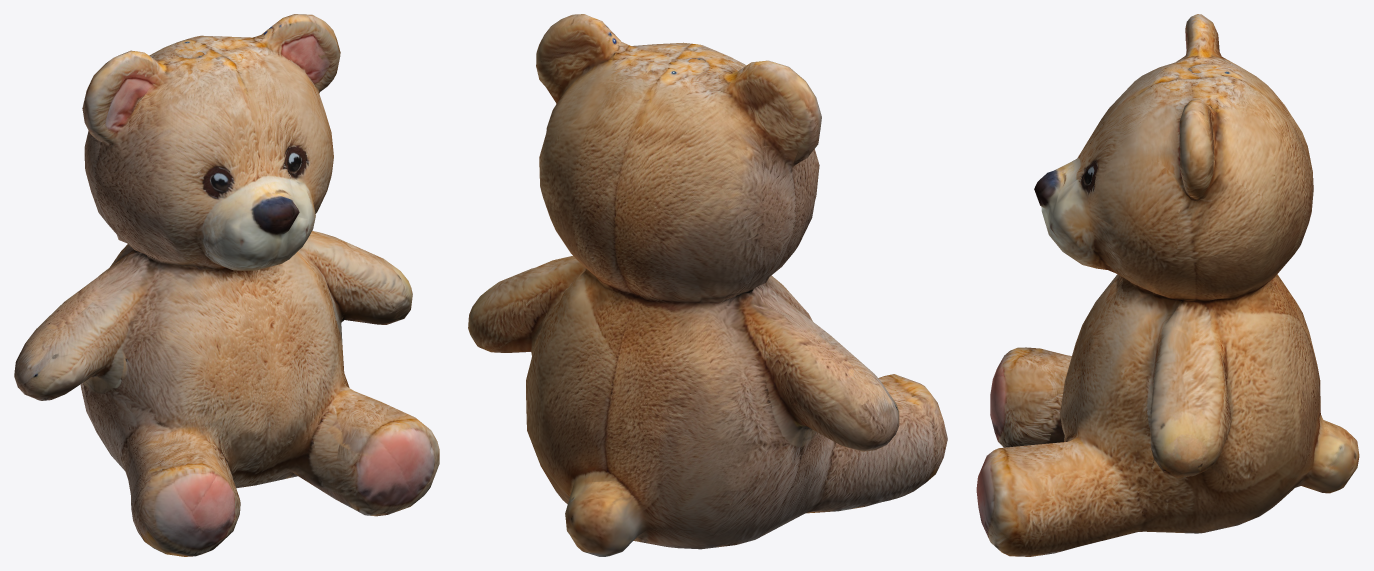
File: uploads_files_5423429_A_cute_Teddybear_Plus_0725033504_refine.glb
The picture shows the model from 3 angles, left to right: view 1: azimuth 30°, elevation 25°; view 2: azimuth 150°, elevation 25°; view 3: azimuth 270°, elevation 25°; orthographic projection. The views are drawn at different scales.
Size of the model in its own units: 1.1 by 1.2 by 0.928.
Materials: 1 (1 with a texture image).
